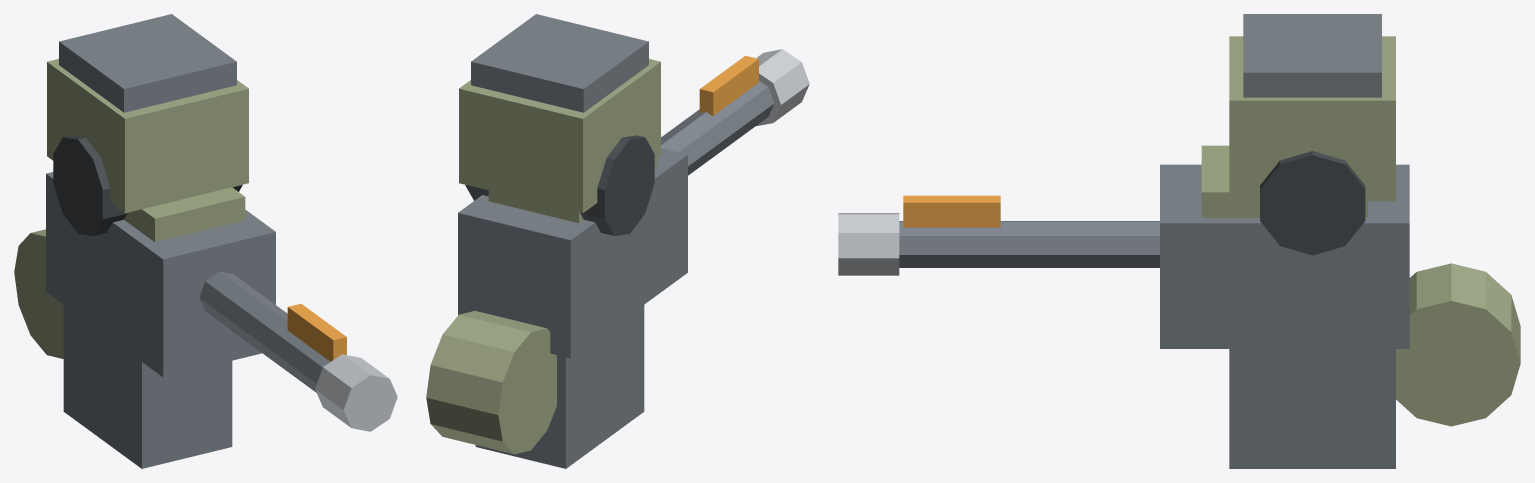
Rendered from mod-line-mech-right-arm-26851.glb.
3 renders of one model, left to right at view 1: azimuth 30°, elevation 25°; view 2: azimuth 150°, elevation 25°; view 3: azimuth 270°, elevation 25°, orthographic. The views are drawn at different scales.
Size of the model in its own units: 2.61 by 6.75 by 10.37.
